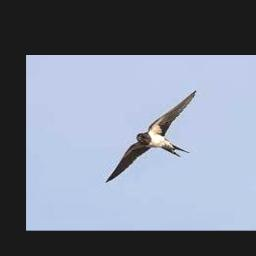Swallow: (105, 90, 198, 184)
